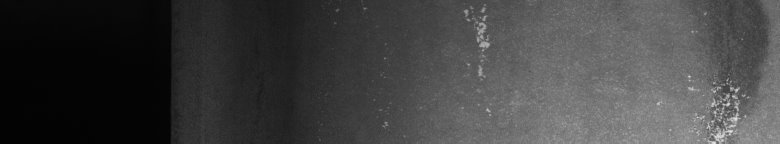hc: (688, 12, 749, 136)
